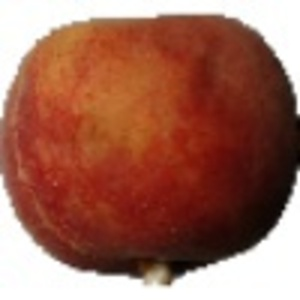pêssego: (1, 1, 300, 290)
